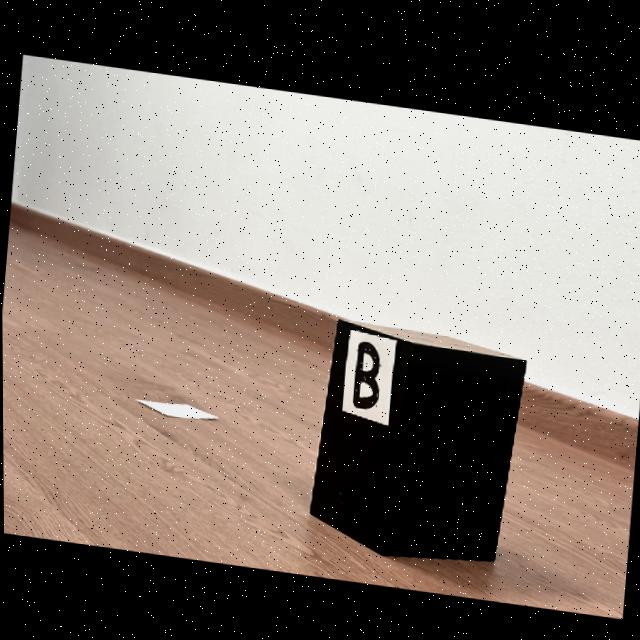B: (352, 338, 379, 406)
